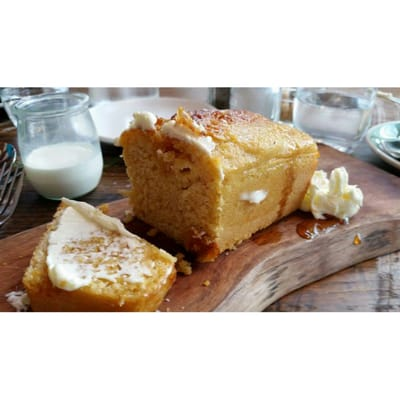pizza: (8, 91, 104, 201), (292, 87, 377, 151), (229, 87, 281, 121)
soup: (119, 106, 320, 265), (21, 196, 178, 309)
